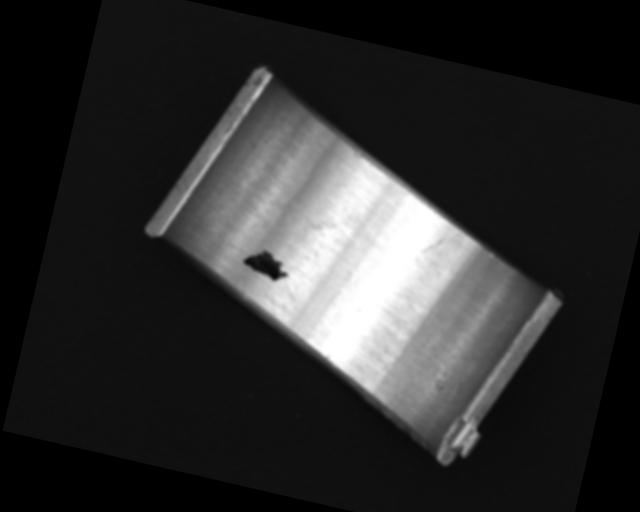blot: (271, 208, 339, 255), (238, 244, 294, 286)
bruise: (351, 148, 362, 159), (323, 351, 333, 361)
nick: (420, 218, 459, 260)
